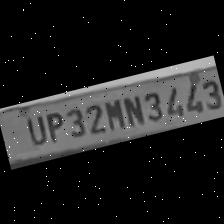2: (80, 98, 108, 136)
3: (60, 102, 88, 140), (196, 74, 224, 111), (138, 86, 165, 124)
4: (176, 77, 203, 117), (158, 82, 184, 120)
M: (99, 95, 127, 133)
N: (119, 91, 146, 129)
P: (40, 107, 67, 144)
U: (19, 111, 47, 148)
